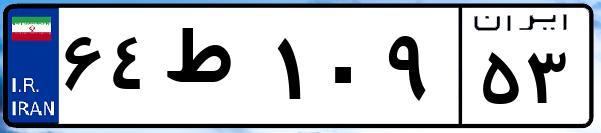0: (330, 28, 385, 110)
1: (270, 28, 330, 110)
3: (525, 38, 570, 115)
4: (110, 28, 158, 98)
5: (475, 38, 525, 113)
6: (57, 26, 110, 100)
9: (385, 28, 445, 110)
ط: (158, 20, 270, 120)
